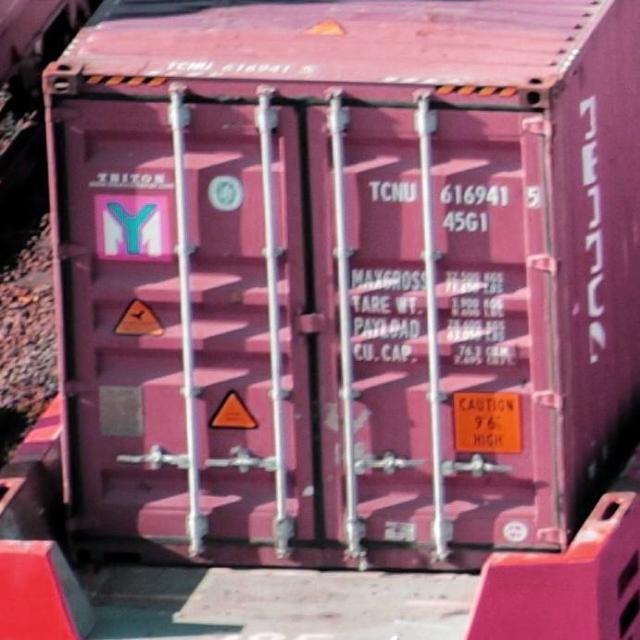ISO: (444, 211, 492, 234)
container_number: (367, 183, 541, 204)
